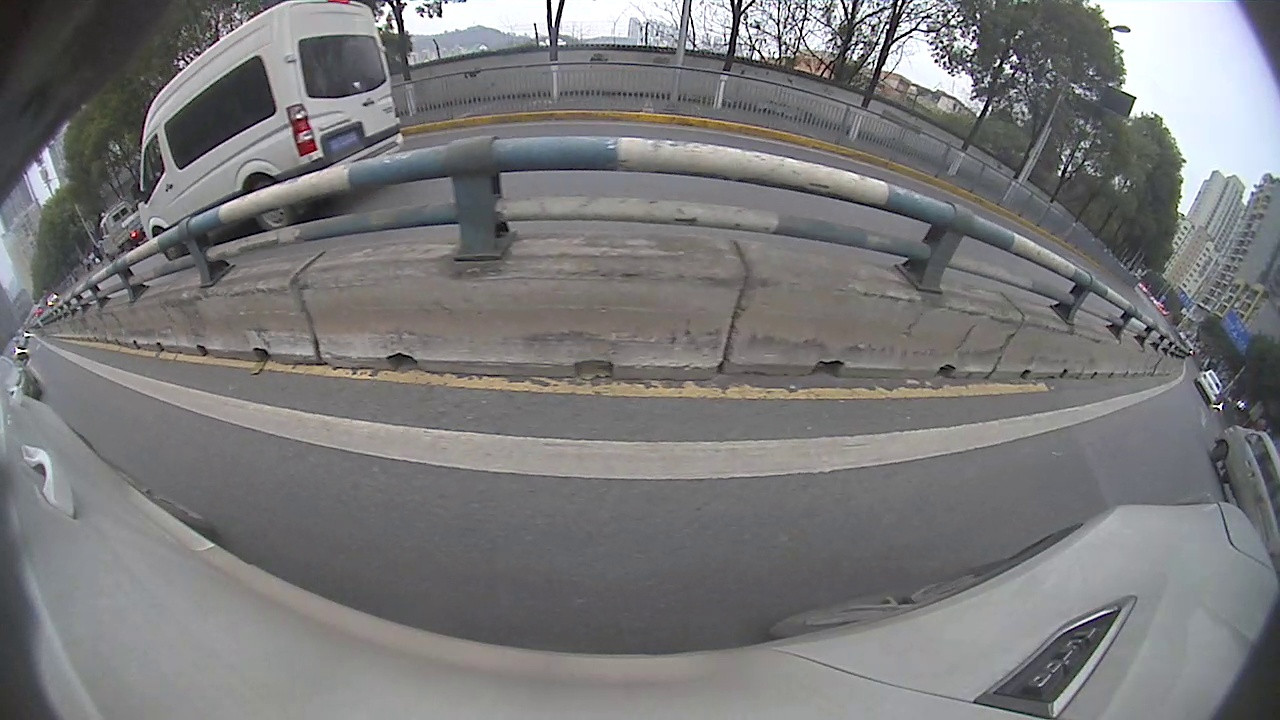car: (128, 1, 407, 264)
front: (1210, 440, 1228, 463)
rear: (247, 181, 292, 232)
